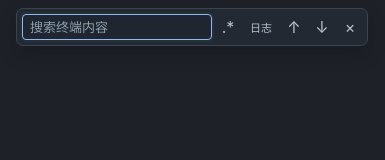
Test: log preset highlights severity keywords through regex search decorations
Click the button with aria-label "高亮日志级别关键词".
click(261, 27)  # box [244,15,278,39]
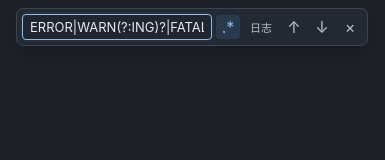
Expected: the field named "搜索终端内容" holds "ERROR|WARN(?:ING)?|FATAL|FAIL(?:ED)?", [22,14,212,40]
